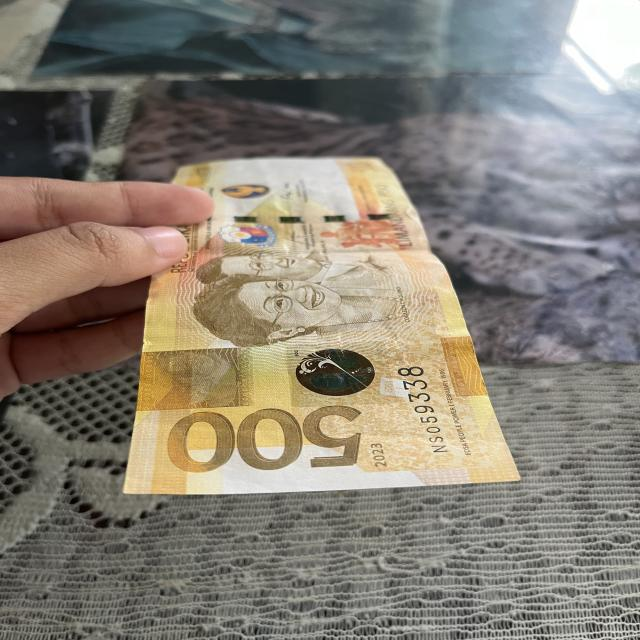concealed_value: (137, 347, 255, 409)
optically_variable_device: (286, 341, 396, 404)
security_thread: (200, 213, 416, 224)
serial_number: (394, 362, 449, 457)
value: (166, 404, 364, 474)
